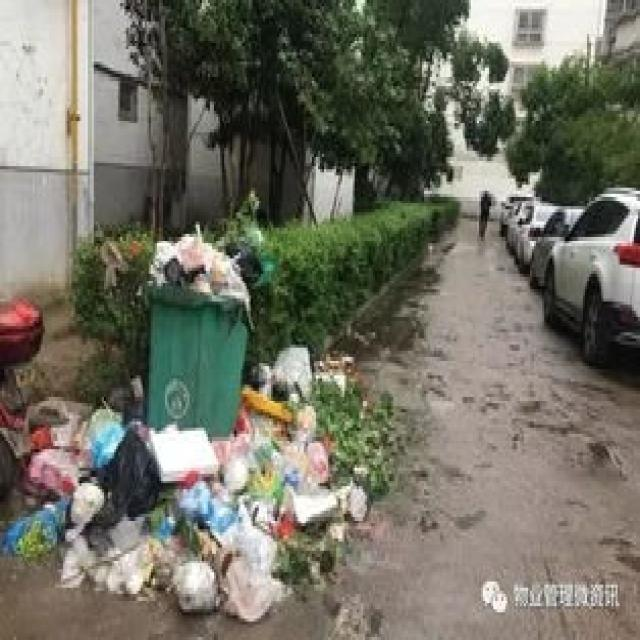garbage: (0, 338, 389, 621)
overflow: (142, 215, 246, 431)
